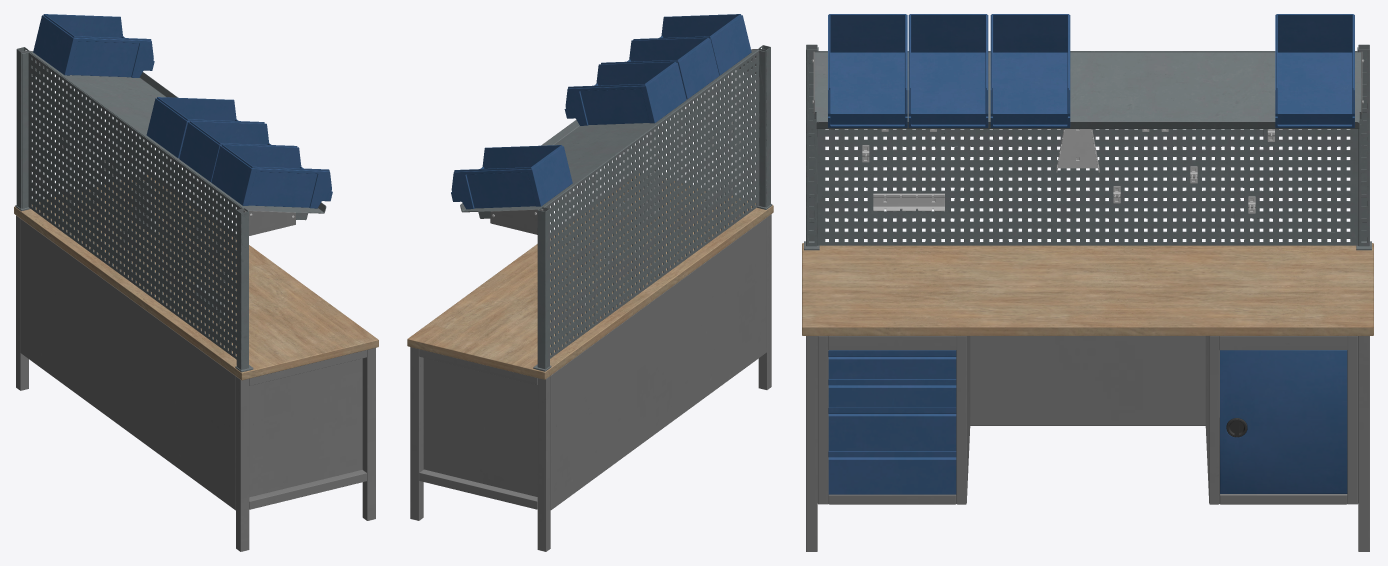
The model's file is furniture_workbench_standard_e01.lite.glb.
3 renders of one model, left to right at view 1: azimuth 30°, elevation 25°; view 2: azimuth 150°, elevation 25°; view 3: azimuth 270°, elevation 25°, orthographic. The views are drawn at different scales.
Visible parts, largest first — view 1: root; view 2: root; view 3: root.
Boxes of the visible parts, x1=… form: root: x1=14, y1=14, x2=378, y2=551; root: x1=407, y1=14, x2=773, y2=551; root: x1=802, y1=14, x2=1373, y2=551.
Bounding box in the file's own units: 0.533 × 1.38 × 1.53.
Materials: 6 (5 with a texture image).
